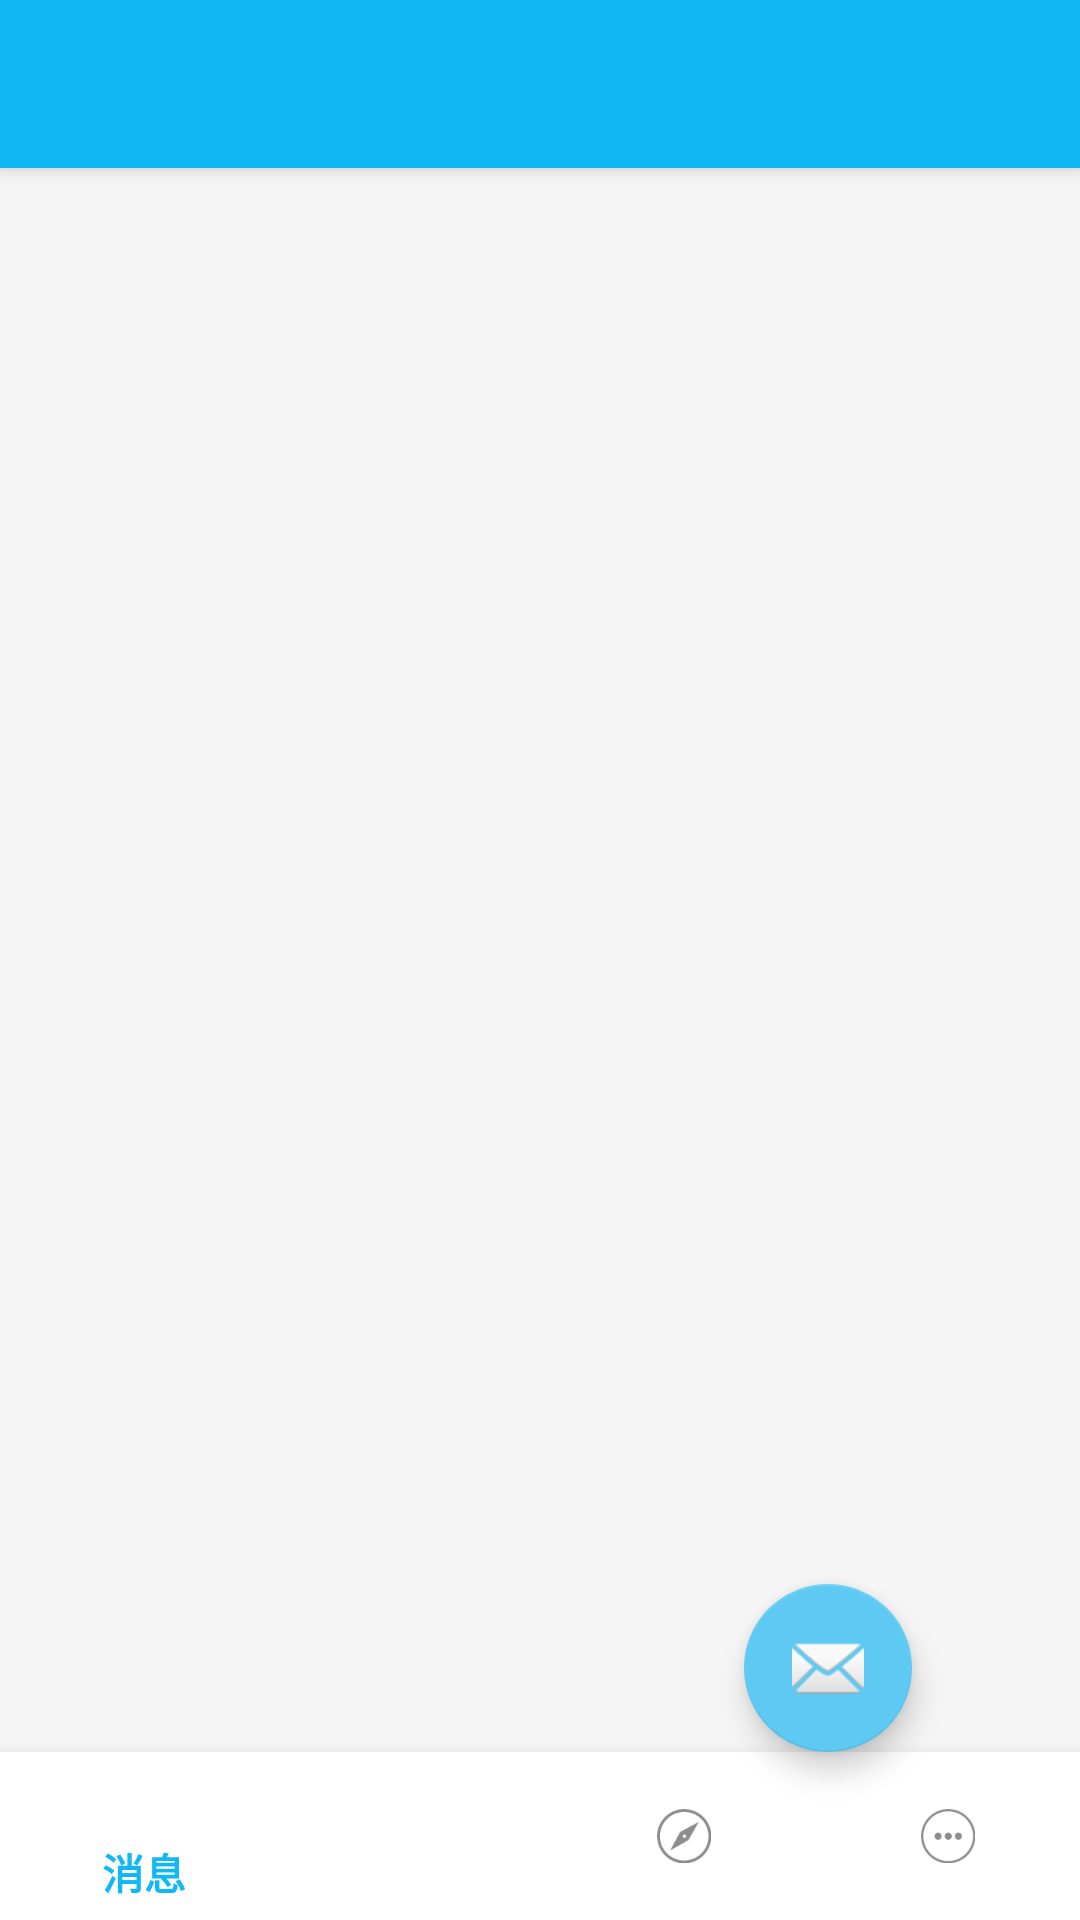

Screen size 1080 × 1920. Icon name, then its box in pixels as (x1, y1, x2, y2):
email: (744, 1584, 912, 1752)
